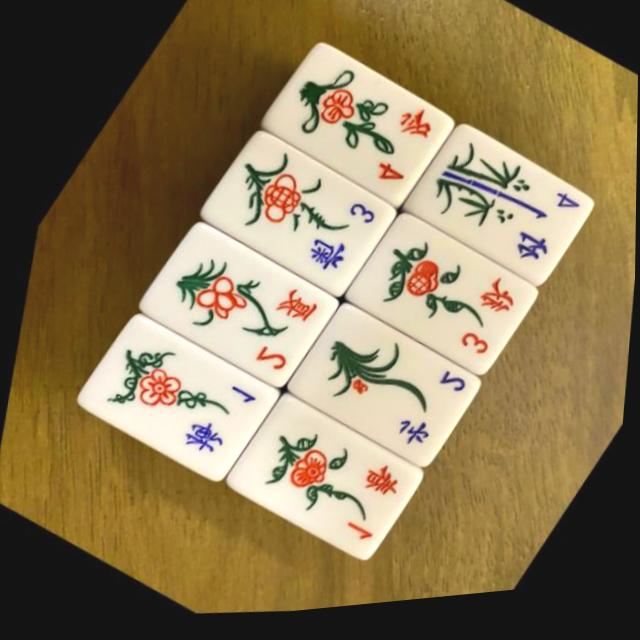bf1: (51, 293, 288, 508)
bf2: (262, 286, 487, 490)
bf3: (183, 122, 399, 316)
bf4: (385, 117, 593, 304)
bs1: (208, 378, 439, 589)
bs2: (112, 196, 350, 412)
bs3: (328, 201, 541, 392)
bs4: (245, 37, 446, 216)
